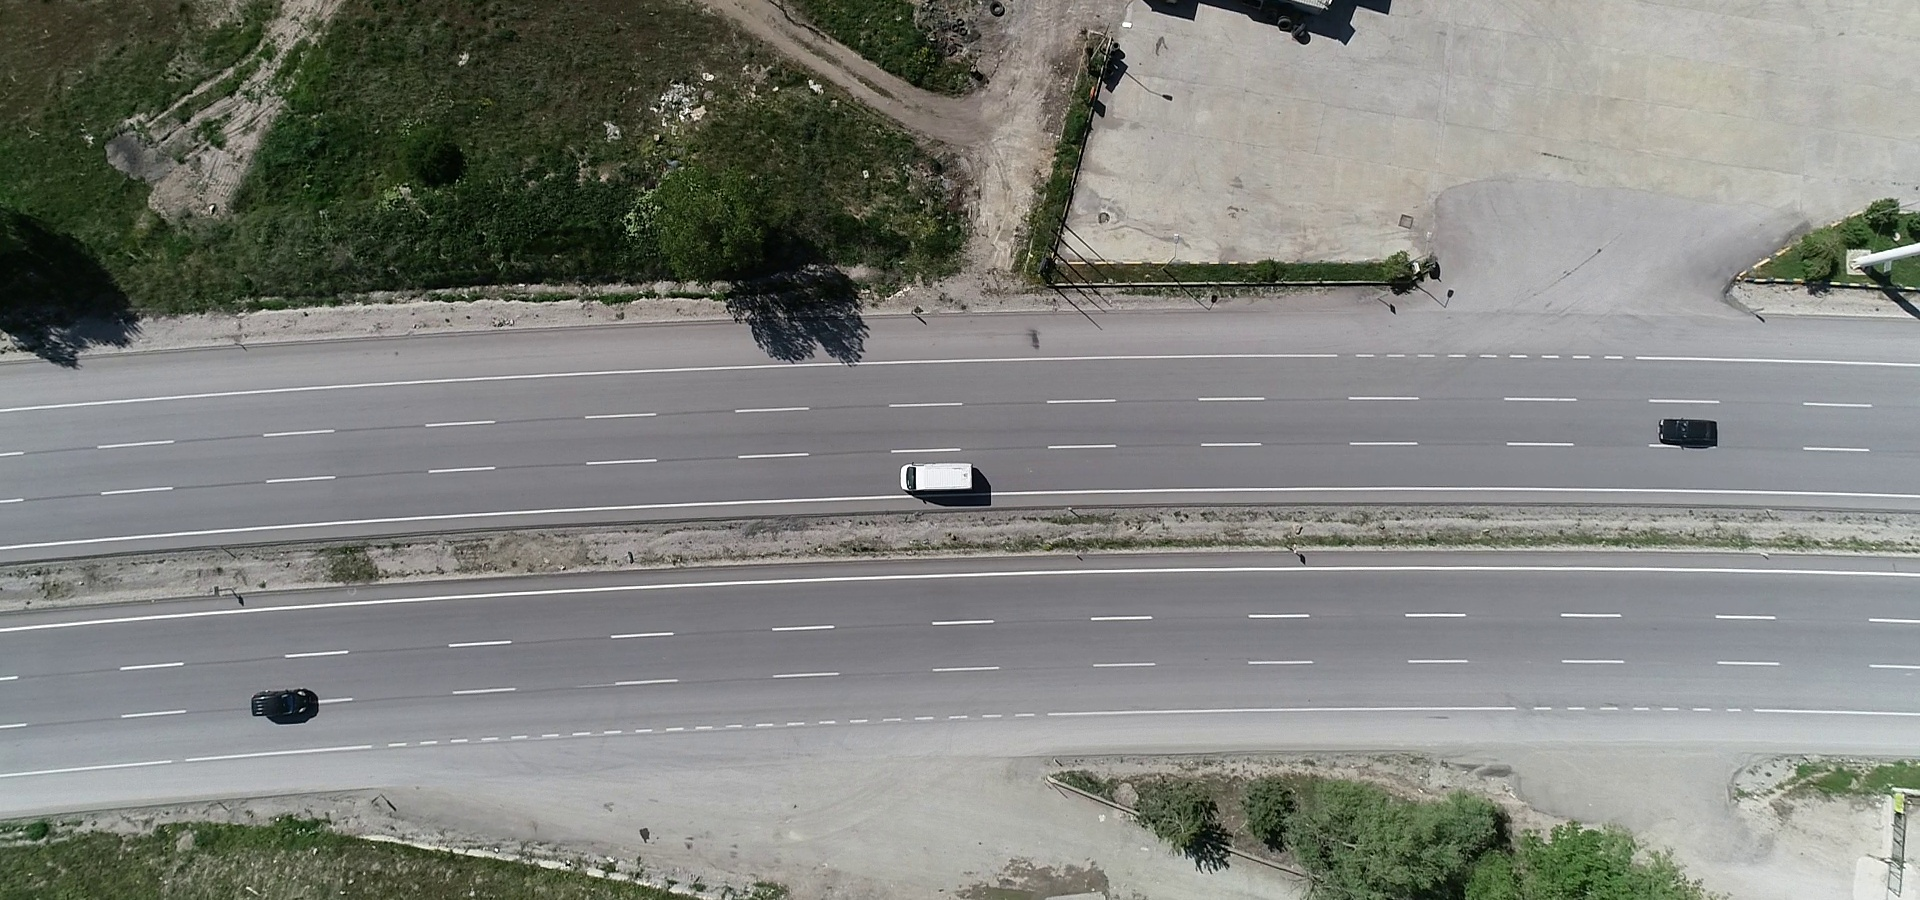arac: (891, 447, 980, 495), (246, 684, 317, 733), (1656, 413, 1720, 453)
